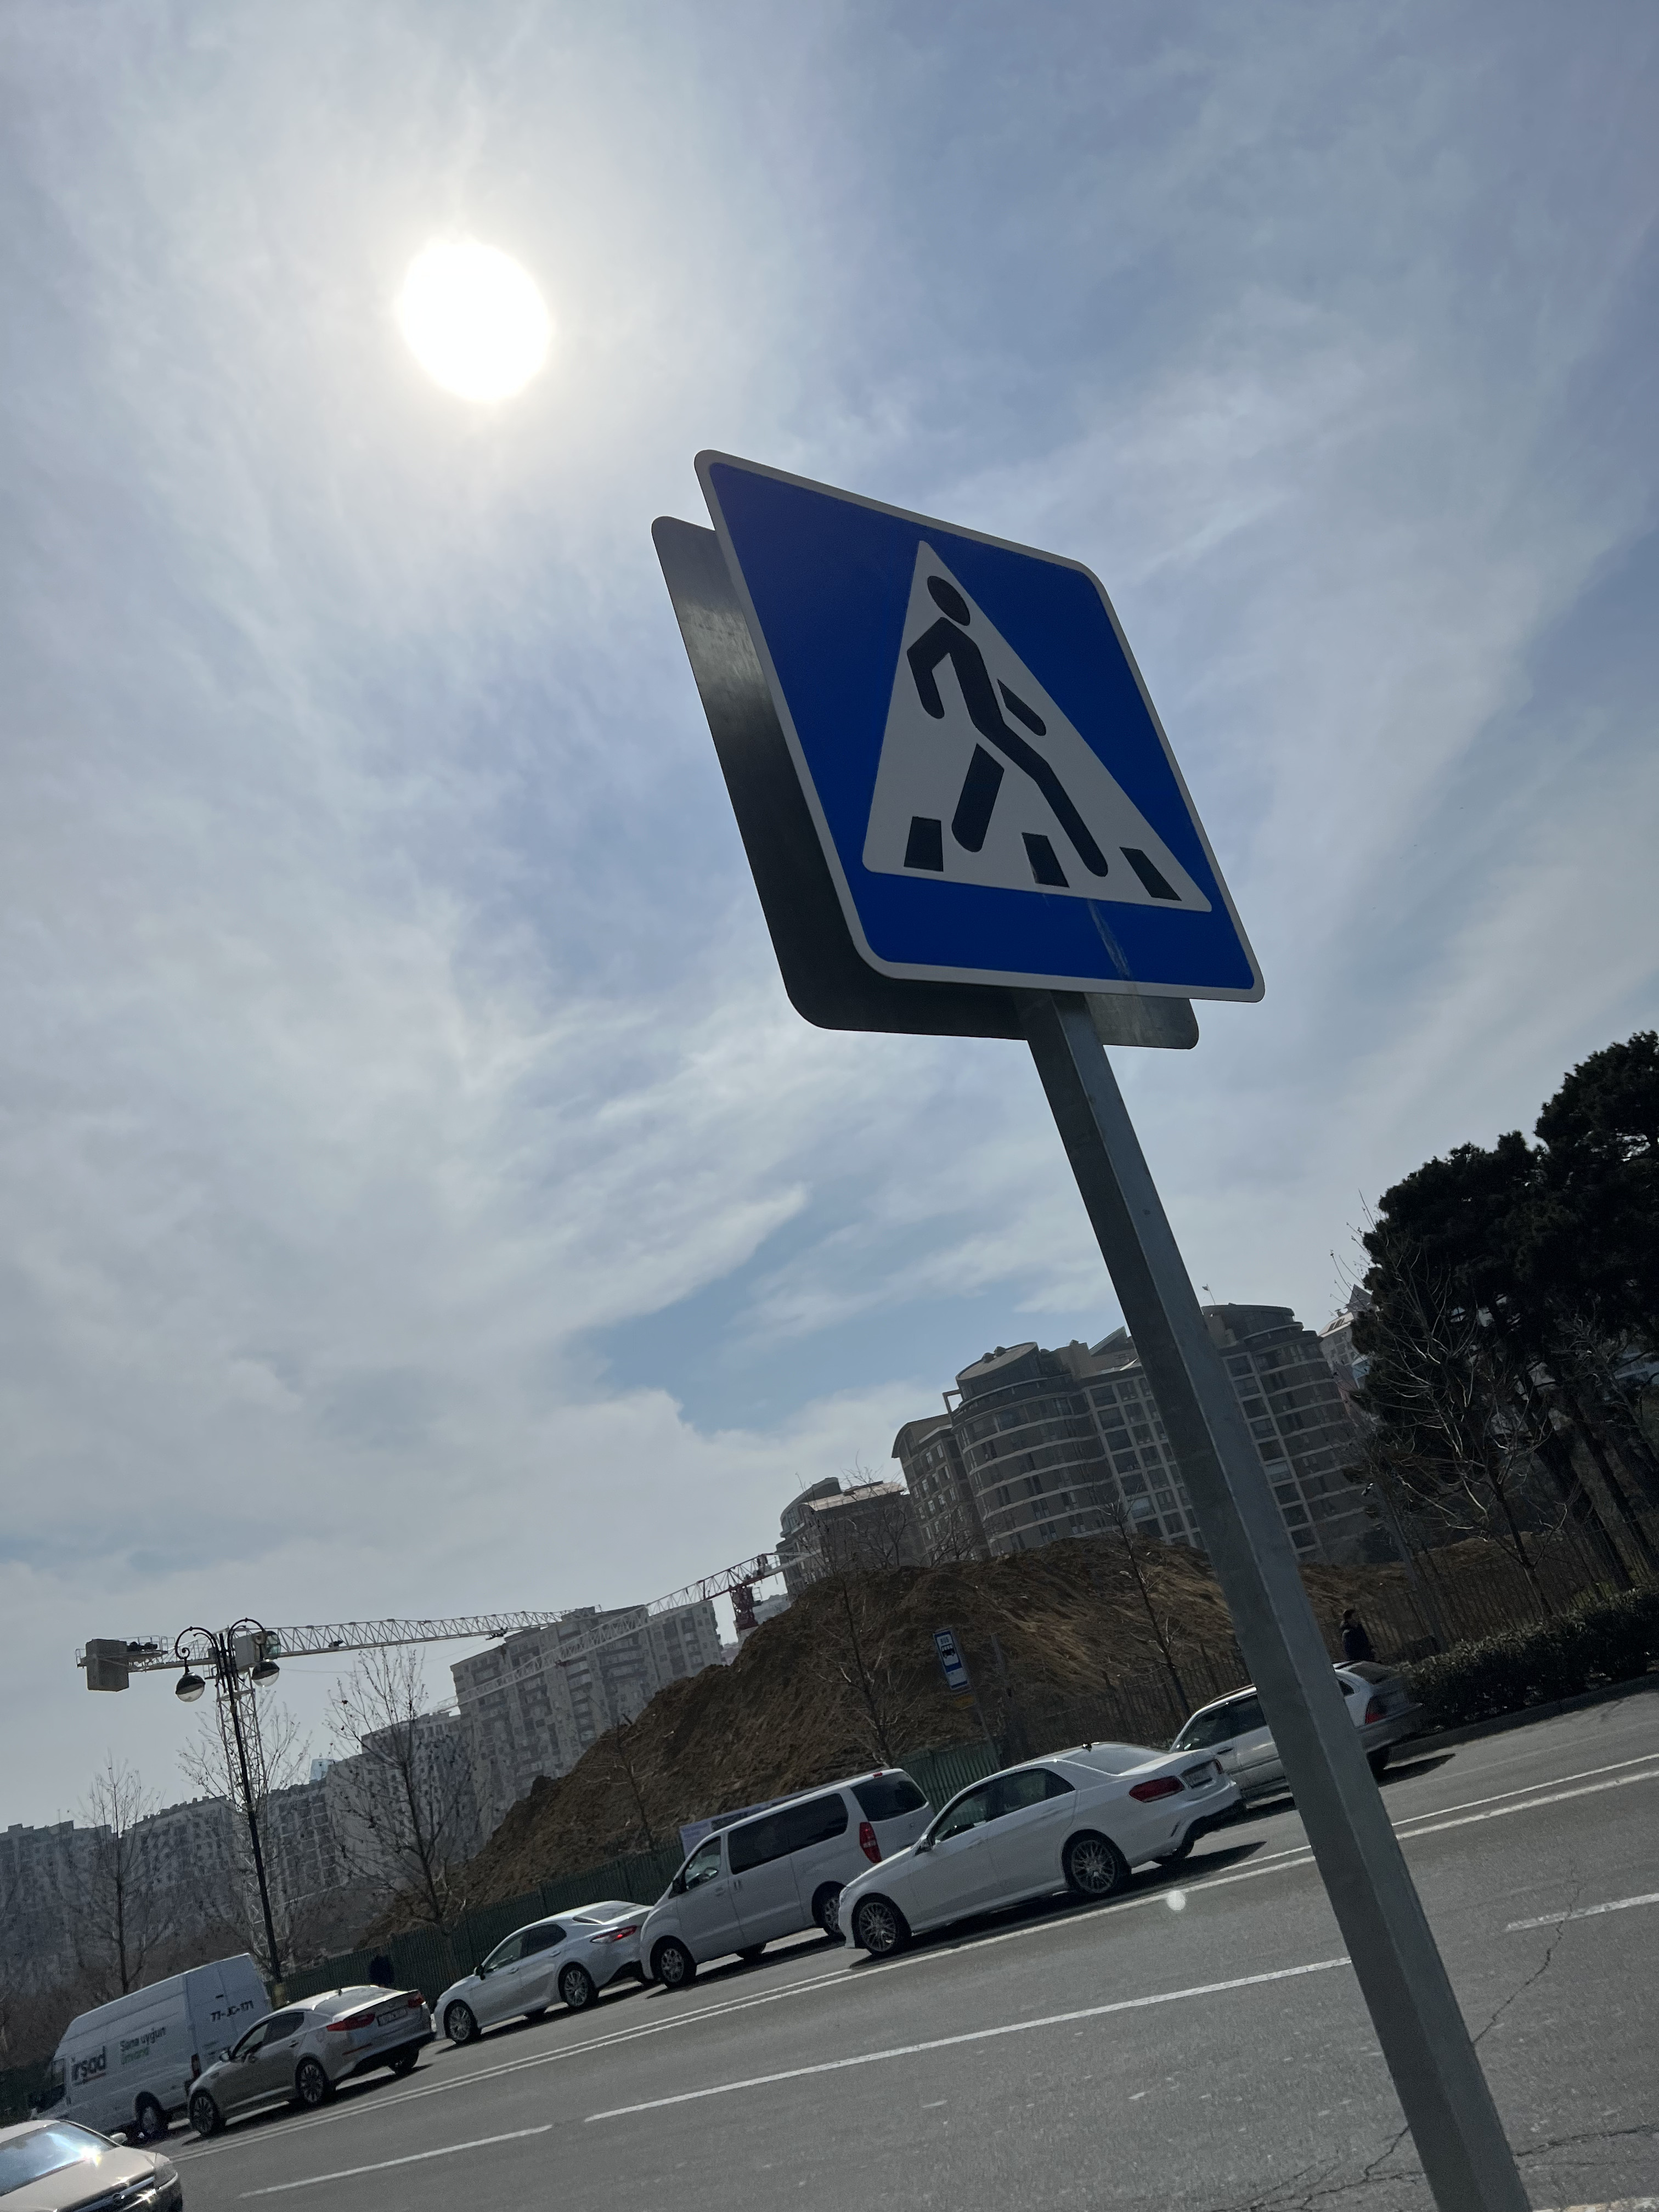Pedestrian Crossing: (695, 448, 1269, 1003)
